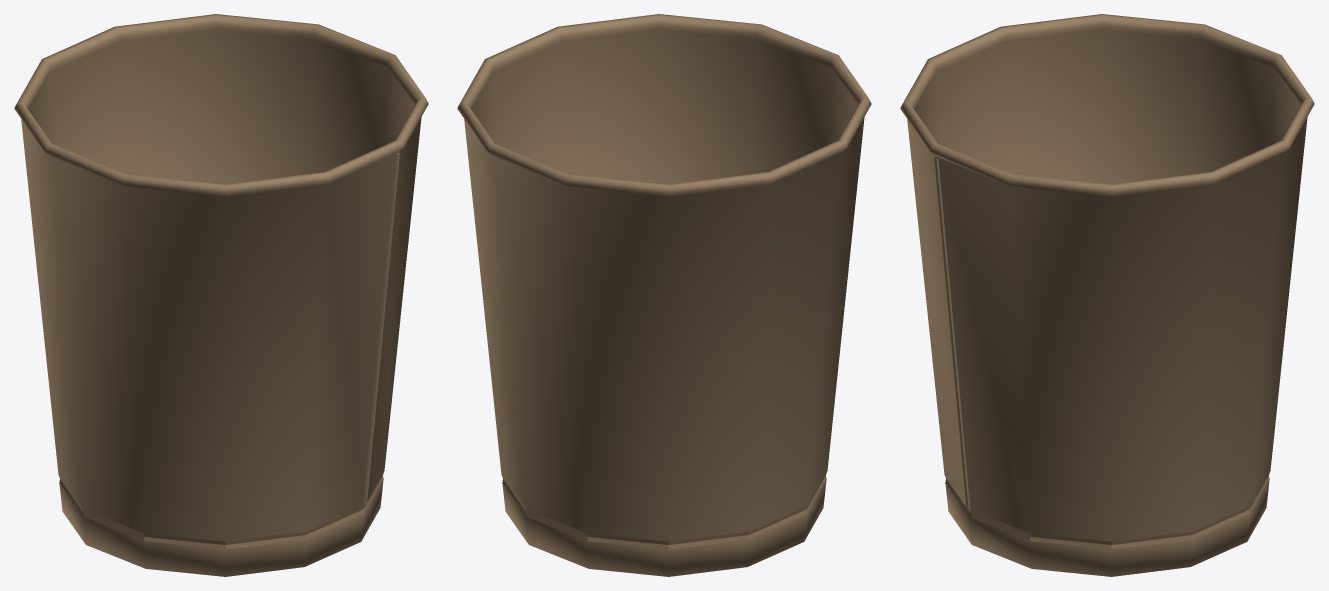
Rendered from Trash Can.fbx.
The picture shows the model from 3 angles, left to right: view 1: azimuth 30°, elevation 25°; view 2: azimuth 150°, elevation 25°; view 3: azimuth 270°, elevation 25°; orthographic projection.
Parts seen in each view (by area): view 1: Trash Can; view 2: Trash Can; view 3: Trash Can.
Part boxes in pixels (bbox=[...]): Trash Can: bbox=[14, 14, 428, 576]; Trash Can: bbox=[457, 14, 871, 576]; Trash Can: bbox=[900, 14, 1314, 576].
Bounding box in the file's own units: 0.9996 × 1.09 × 0.9996.
